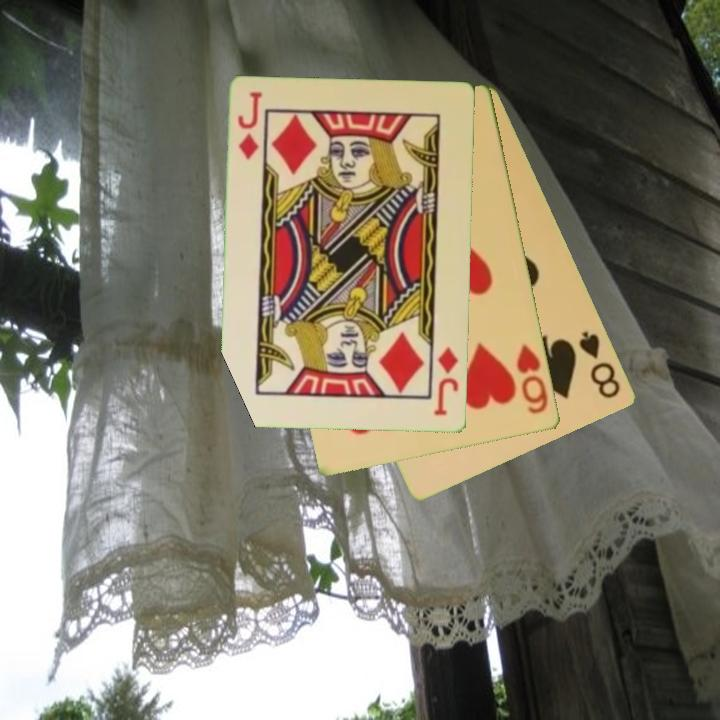6h: (513, 341, 552, 417)
8s: (576, 327, 624, 402)
Jd: (234, 88, 266, 163), (431, 344, 462, 419)
